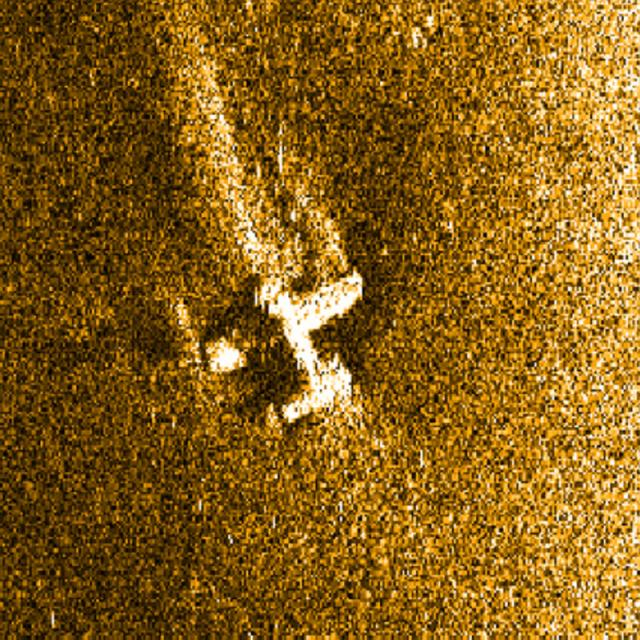plane: (158, 230, 396, 437)
